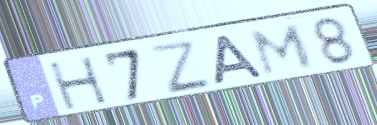7: (101, 47, 144, 103)
8: (309, 15, 359, 67)
A: (213, 32, 268, 87)
H: (45, 54, 112, 113)
M: (249, 22, 317, 79)
Z: (145, 38, 215, 96)
